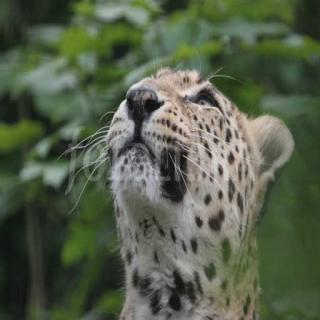Leopard: (99, 39, 293, 299)
